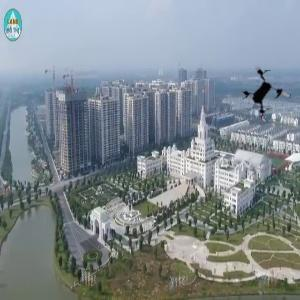drone: (239, 67, 297, 125)
